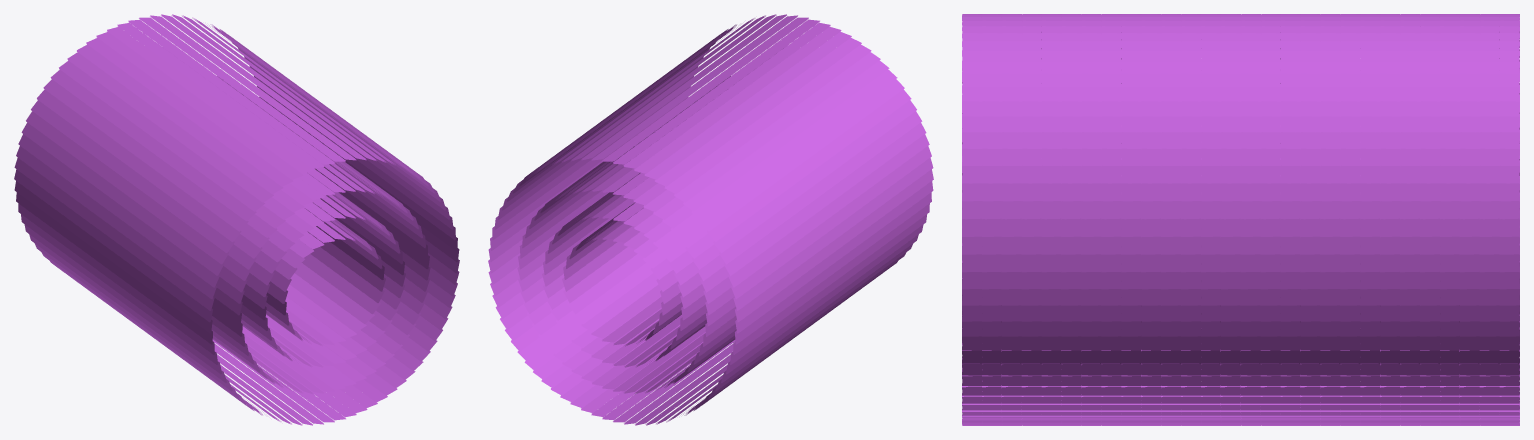
File: Strips_barrel.glb
3 renders of one model, left to right at view 1: azimuth 30°, elevation 25°; view 2: azimuth 150°, elevation 25°; view 3: azimuth 270°, elevation 25°, orthographic. The views are drawn at different scales.
Visible parts, largest first — view 1: Strips__Barrel_sensitives_l7.002, Strips__Barrel_sensitives_l5.002, Strips__Barrel_sensitives_l1.002, Strips__Barrel_sensitives_l3.002; view 2: Strips__Barrel_sensitives_l7.002, Strips__Barrel_sensitives_l5.002, Strips__Barrel_sensitives_l1.002, Strips__Barrel_sensitives_l3.002; view 3: Strips__Barrel_sensitives_l7.002, Strips__Barrel_sensitives_l5.002.
Boxes of the visible parts, bbox=[...] form: Strips__Barrel_sensitives_l7.002: bbox=[14, 14, 459, 425]; Strips__Barrel_sensitives_l5.002: bbox=[162, 47, 430, 394]; Strips__Barrel_sensitives_l1.002: bbox=[265, 202, 385, 346]; Strips__Barrel_sensitives_l3.002: bbox=[240, 172, 405, 367]; Strips__Barrel_sensitives_l7.002: bbox=[488, 14, 933, 425]; Strips__Barrel_sensitives_l5.002: bbox=[517, 48, 783, 394]; Strips__Barrel_sensitives_l1.002: bbox=[562, 202, 682, 346]; Strips__Barrel_sensitives_l3.002: bbox=[542, 173, 707, 367]; Strips__Barrel_sensitives_l7.002: bbox=[962, 14, 1519, 425]; Strips__Barrel_sensitives_l5.002: bbox=[962, 67, 1519, 376].
Size of the model in its own units: 2.03 by 2.03 by 2.75.
